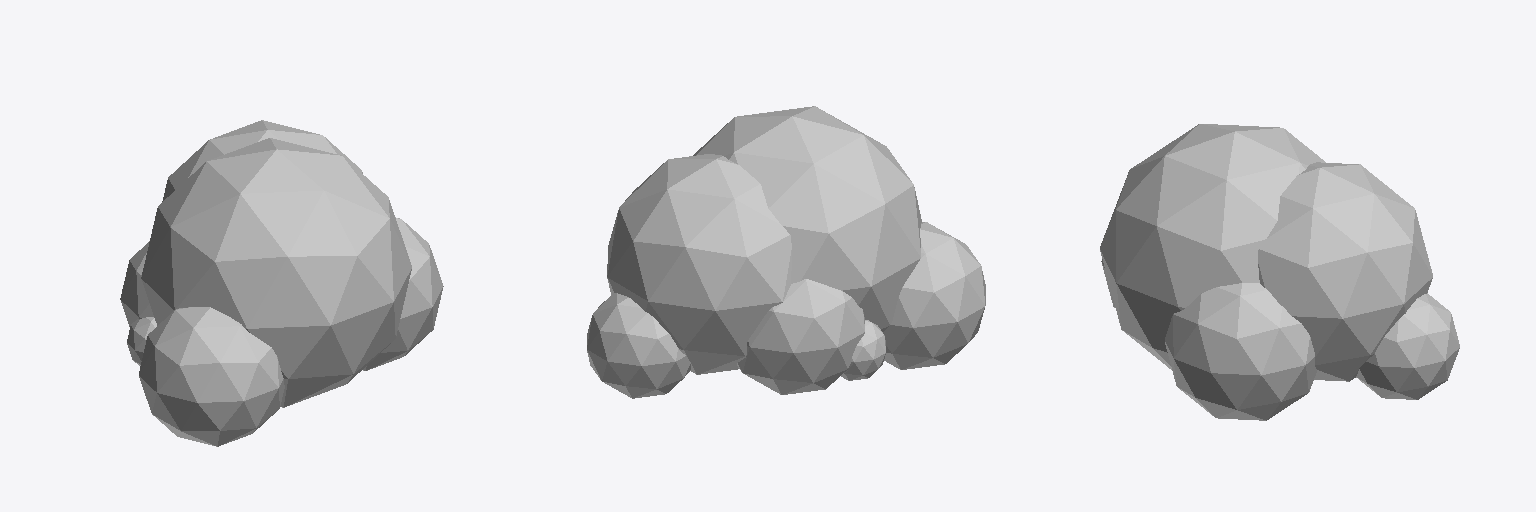
File: scene_rock3.obj
3 renders of one model, left to right at view 1: azimuth 30°, elevation 25°; view 2: azimuth 150°, elevation 25°; view 3: azimuth 270°, elevation 25°, orthographic.
Parts seen in each view (by area): view 1: Icosphere.010, Icosphere.002, Icosphere.006, Icosphere.007, Icosphere.005, Icosphere.009; view 2: Icosphere.007, Icosphere.010, Icosphere.002, Icosphere.005, Icosphere.004, Icosphere.009; view 3: Icosphere.010, Icosphere.007, Icosphere.006, Icosphere.004.
Part boxes in pixels (x1,y1,x2,y2): Icosphere.010: (141,138,411,407); Icosphere.002: (139,307,284,446); Icosphere.006: (363,217,443,370); Icosphere.007: (162,120,362,201); Icosphere.005: (120,241,153,326); Icosphere.009: (127,317,156,365); Icosphere.007: (607,154,791,374); Icosphere.010: (693,106,921,331); Icosphere.002: (883,222,985,369); Icosphere.005: (737,279,864,394); Icosphere.004: (587,293,690,398); Icosphere.009: (841,320,885,380); Icosphere.010: (1100,124,1325,369); Icosphere.007: (1258,162,1432,381); Icosphere.006: (1165,283,1316,420); Icosphere.004: (1356,293,1459,399).
Size of the model in its own units: 4.1 by 3.06 by 4.05.